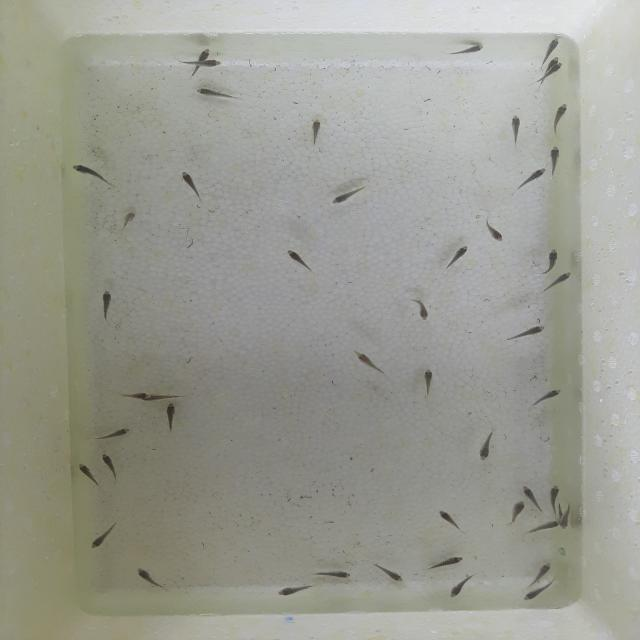fingerling: (514, 165, 548, 195), (354, 351, 390, 378), (88, 520, 120, 550), (179, 171, 208, 204), (133, 566, 170, 591), (447, 572, 480, 600), (305, 115, 329, 152), (192, 87, 247, 103), (502, 323, 548, 342), (547, 100, 571, 136), (530, 385, 564, 410), (533, 247, 563, 274), (372, 562, 408, 584), (544, 270, 577, 294), (480, 214, 506, 244), (544, 144, 566, 178), (424, 554, 465, 572), (97, 289, 118, 324), (520, 582, 556, 602), (333, 184, 369, 204), (101, 451, 121, 486), (285, 249, 314, 273), (272, 583, 318, 598), (71, 163, 107, 182), (160, 402, 180, 435), (439, 43, 486, 57), (409, 295, 431, 323), (447, 244, 471, 268), (76, 462, 100, 485), (508, 112, 524, 146), (476, 433, 494, 463), (437, 508, 461, 530), (508, 499, 526, 528), (94, 426, 133, 439), (308, 569, 354, 580), (420, 368, 436, 398), (542, 35, 562, 57), (522, 484, 542, 506), (533, 560, 555, 580), (112, 390, 154, 400), (546, 484, 562, 510), (203, 57, 224, 72), (192, 46, 214, 60), (121, 210, 137, 227), (537, 520, 559, 532), (558, 514, 572, 532), (547, 61, 566, 73)
